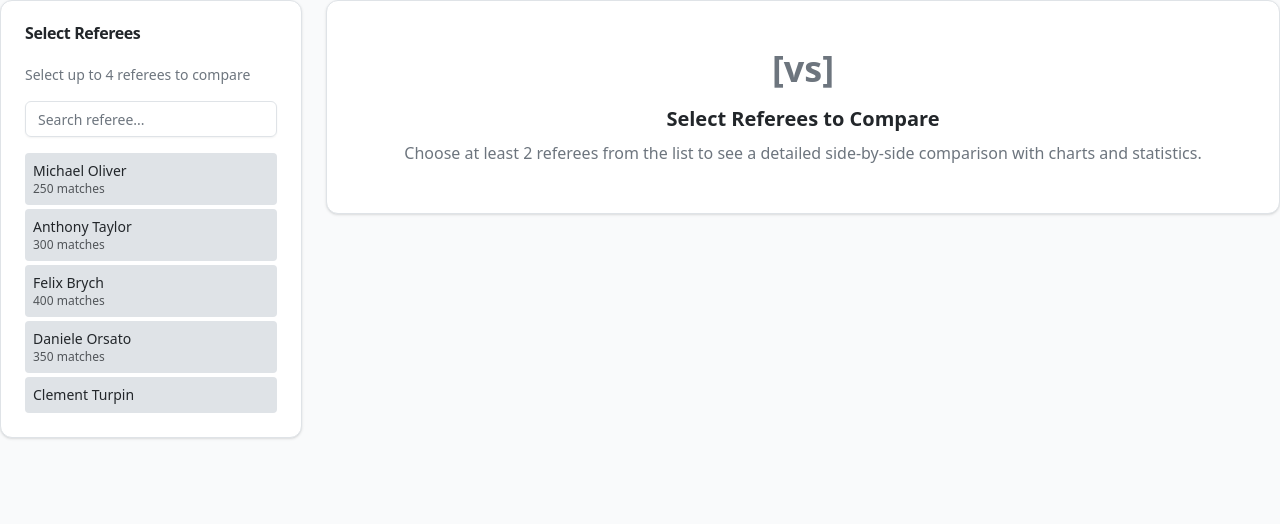
RefereeComparisonClient › Referee Selection › allows selecting a referee
Step 1. Click the button "Michael Oliver 250 matches" → (151, 179), box left=25, top=153, right=277, bottom=205
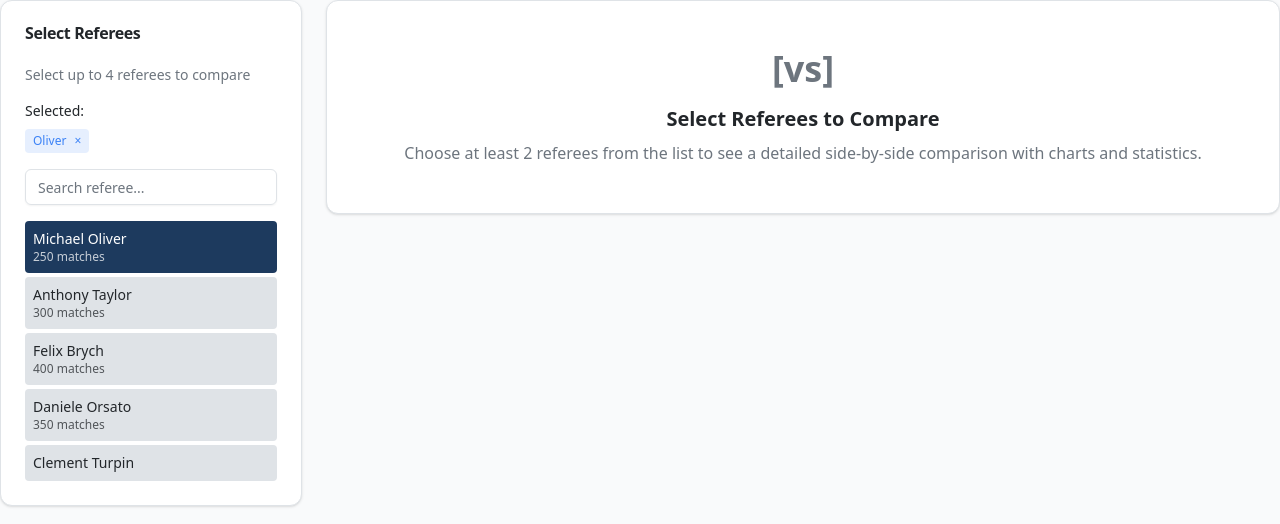
Expected: the text "Oliver" is shown, left=33, top=132, right=66, bottom=149
